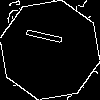I: (25, 25, 73, 49)
